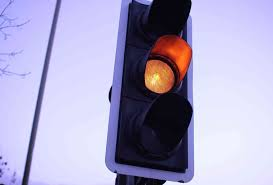amber: (114, 1, 197, 184), (120, 1, 192, 178), (135, 1, 188, 161)
